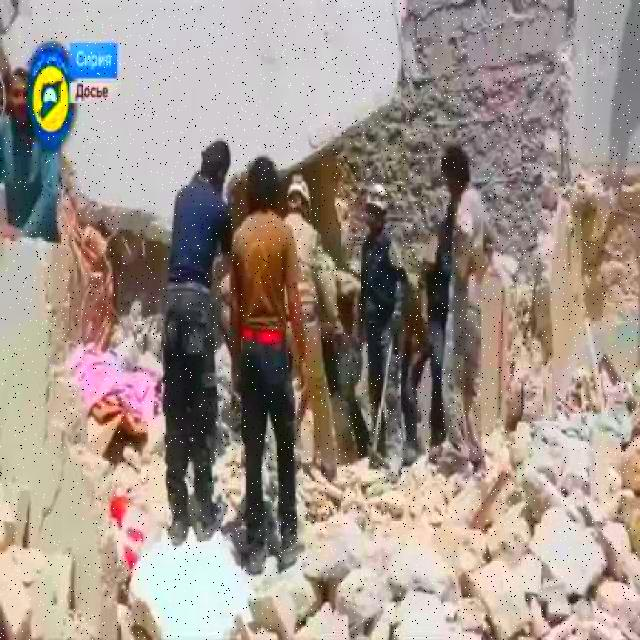Helmet: (288, 176, 312, 210), (364, 185, 388, 212)
